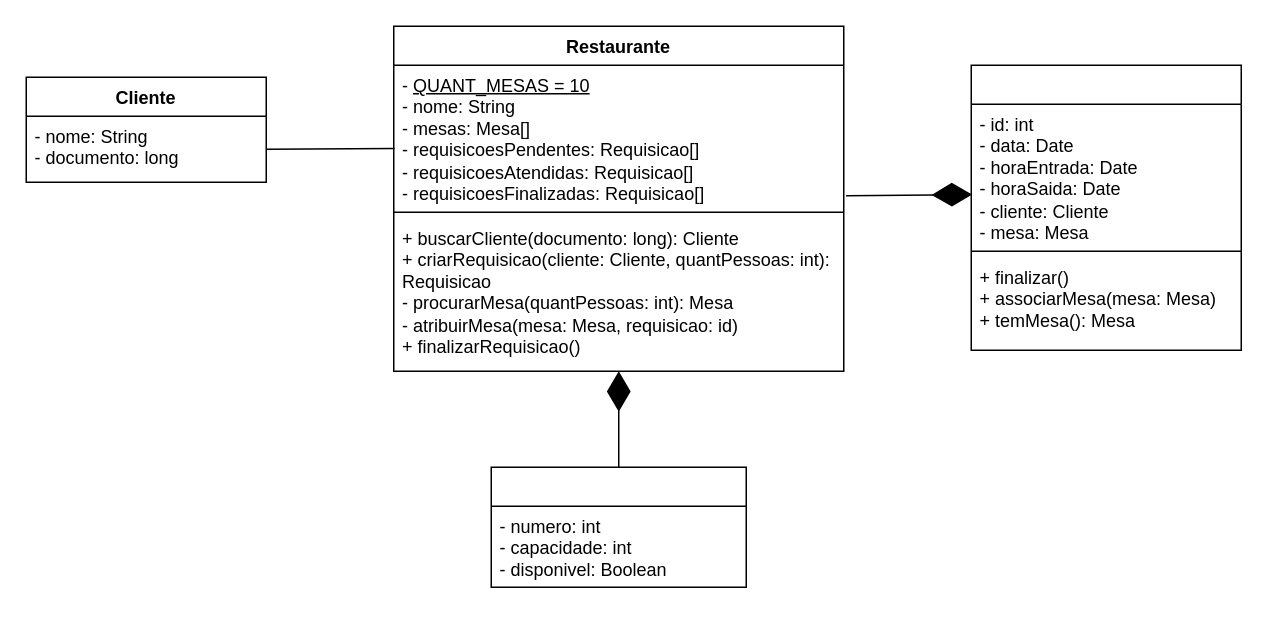
This 1268x618 diagram has some shape labels left out. Each missing label, with the box of its shape:
Mesa: (490, 466, 746, 587)
Requisicao: (970, 64, 1241, 350)
